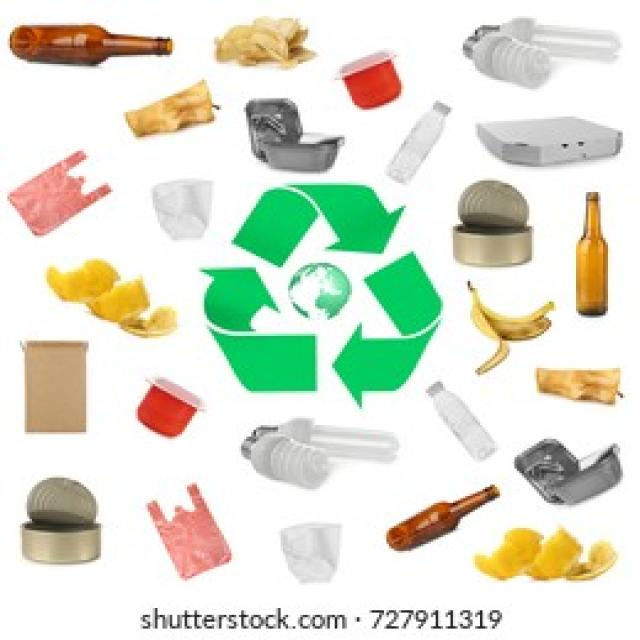cardboard: (12, 334, 98, 446)
glass: (241, 407, 401, 487), (465, 16, 628, 91), (10, 16, 172, 75), (559, 180, 620, 327), (384, 480, 505, 551)
metal: (485, 112, 630, 174), (453, 174, 541, 274), (20, 482, 110, 578)
paper: (204, 23, 310, 75)
plastic: (148, 480, 229, 594), (236, 96, 338, 181), (3, 156, 86, 242), (133, 169, 231, 240), (379, 103, 453, 190), (108, 382, 226, 434), (426, 384, 497, 459), (332, 41, 392, 112)
